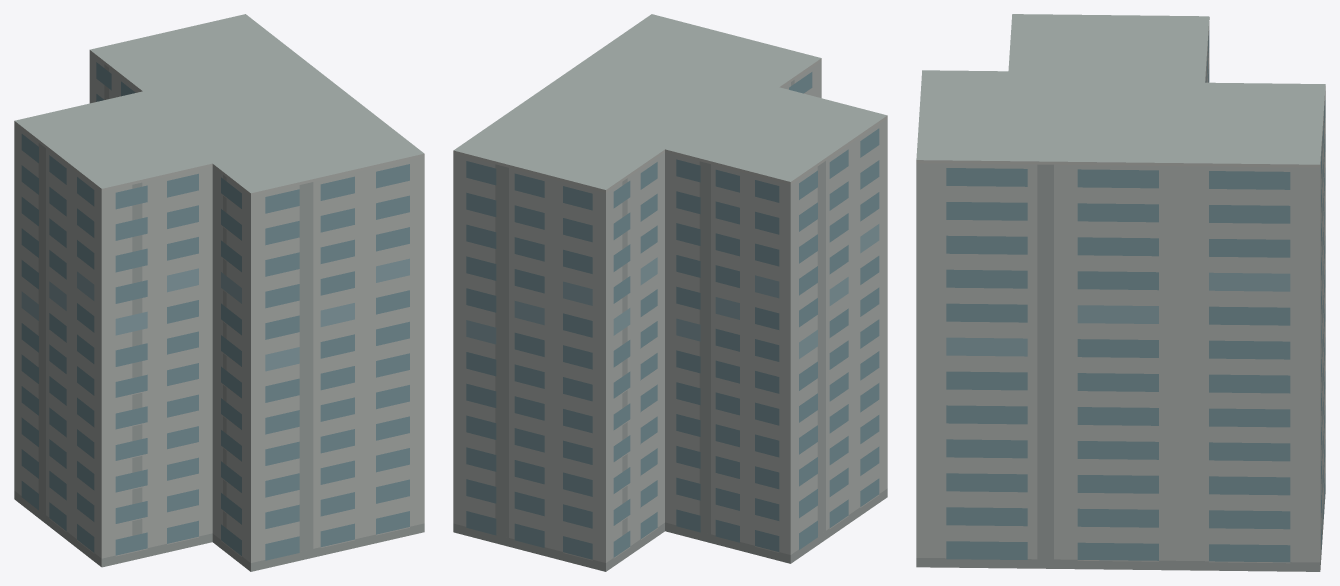
The model's file is residential-fd3f12b2-9a51-4f54-8047-944ddfaeb36f.glb.
3 views of the same model, side by side, from view 1: azimuth 30°, elevation 25°; view 2: azimuth 150°, elevation 25°; view 3: azimuth 270°, elevation 25° (orthographic). The views are drawn at different scales.
Visible parts, largest first — view 1: residential-fd3f12b2-9a51-4f54-8047-944ddfaeb36f.tmp; view 2: residential-fd3f12b2-9a51-4f54-8047-944ddfaeb36f.tmp; view 3: residential-fd3f12b2-9a51-4f54-8047-944ddfaeb36f.tmp.
Boxes of the visible parts, <box> form: residential-fd3f12b2-9a51-4f54-8047-944ddfaeb36f.tmp: <box>14,14,424,571</box>; residential-fd3f12b2-9a51-4f54-8047-944ddfaeb36f.tmp: <box>453,14,887,571</box>; residential-fd3f12b2-9a51-4f54-8047-944ddfaeb36f.tmp: <box>916,14,1325,571</box>.
Size of the model in its own units: 25.41 by 32 by 29.16.
